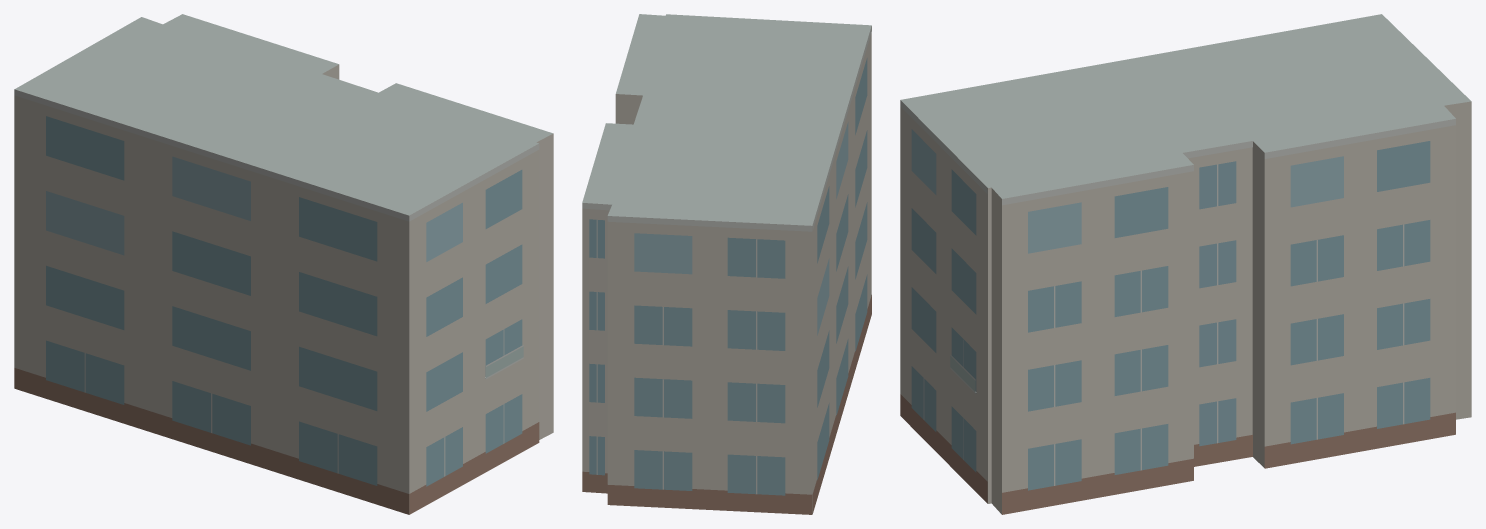
Rendered from survey-upis-32892531.glb.
3 views of the same model, side by side, from view 1: azimuth 30°, elevation 25°; view 2: azimuth 150°, elevation 25°; view 3: azimuth 270°, elevation 25° (orthographic). The views are drawn at different scales.
Parts seen in each view (by area): view 1: survey-upis-32892531.tmp; view 2: survey-upis-32892531.tmp; view 3: survey-upis-32892531.tmp.
Boxes of the visible parts, x1,y1,x2,y2 form: survey-upis-32892531.tmp: (14, 14, 553, 514); survey-upis-32892531.tmp: (582, 14, 871, 514); survey-upis-32892531.tmp: (900, 14, 1471, 514).
Size of the model in its own units: 15.14 by 12.05 by 19.76.
